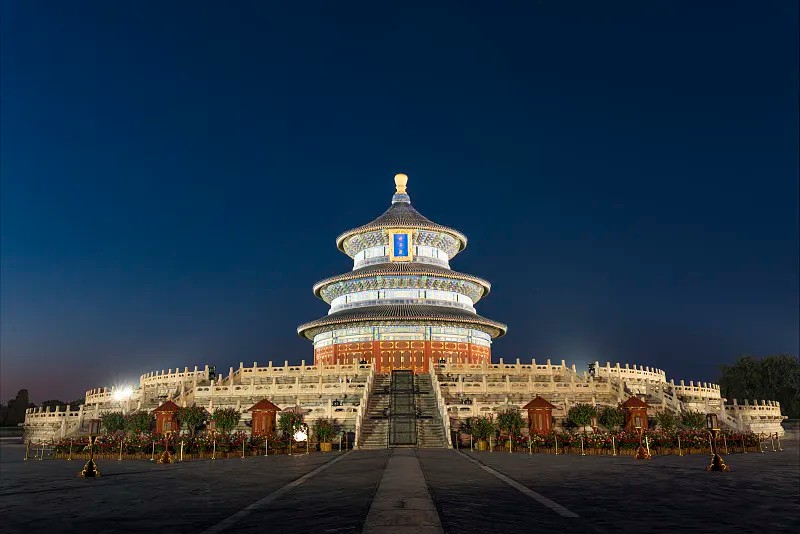Heaven: (296, 172, 507, 371)
